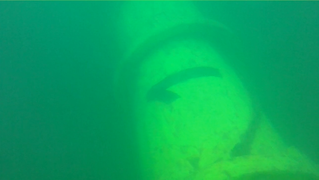1: (145, 66, 222, 104)
pipe: (105, 1, 318, 179)
